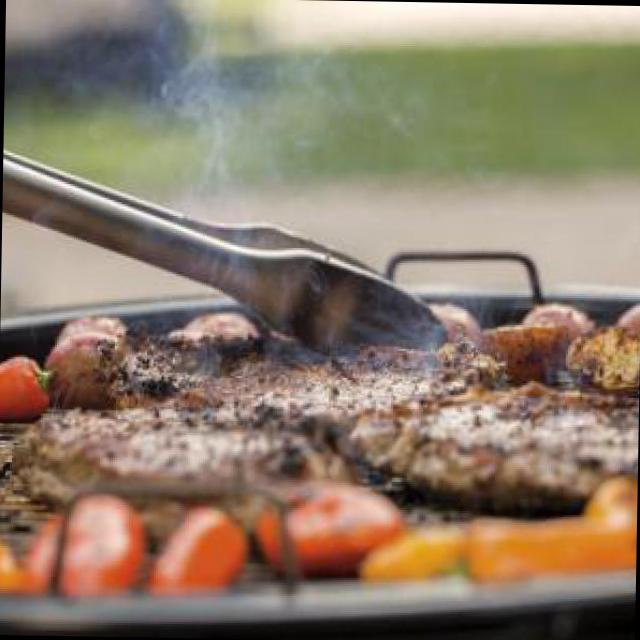smoke: (105, 1, 363, 238)
